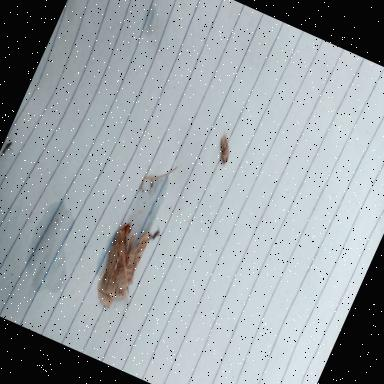abw: (86, 219, 154, 313)
pbw: (210, 130, 238, 166)
